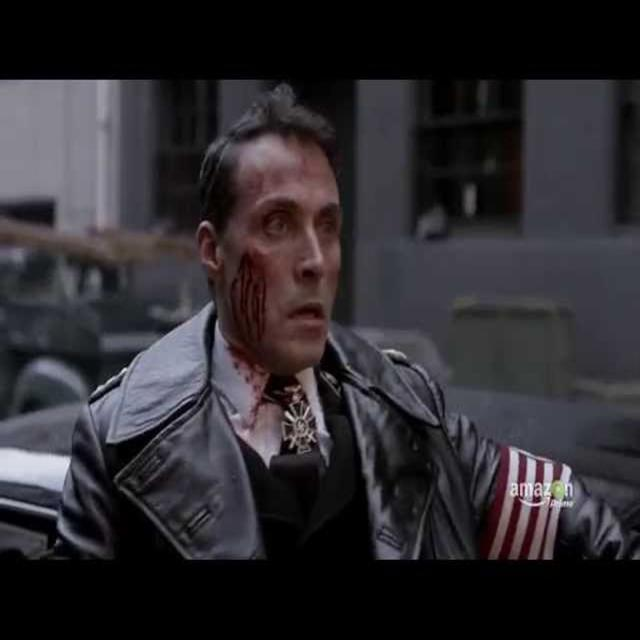human: (42, 79, 638, 562)
